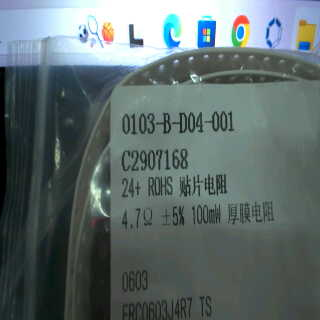4.7R: (117, 201, 155, 230)
